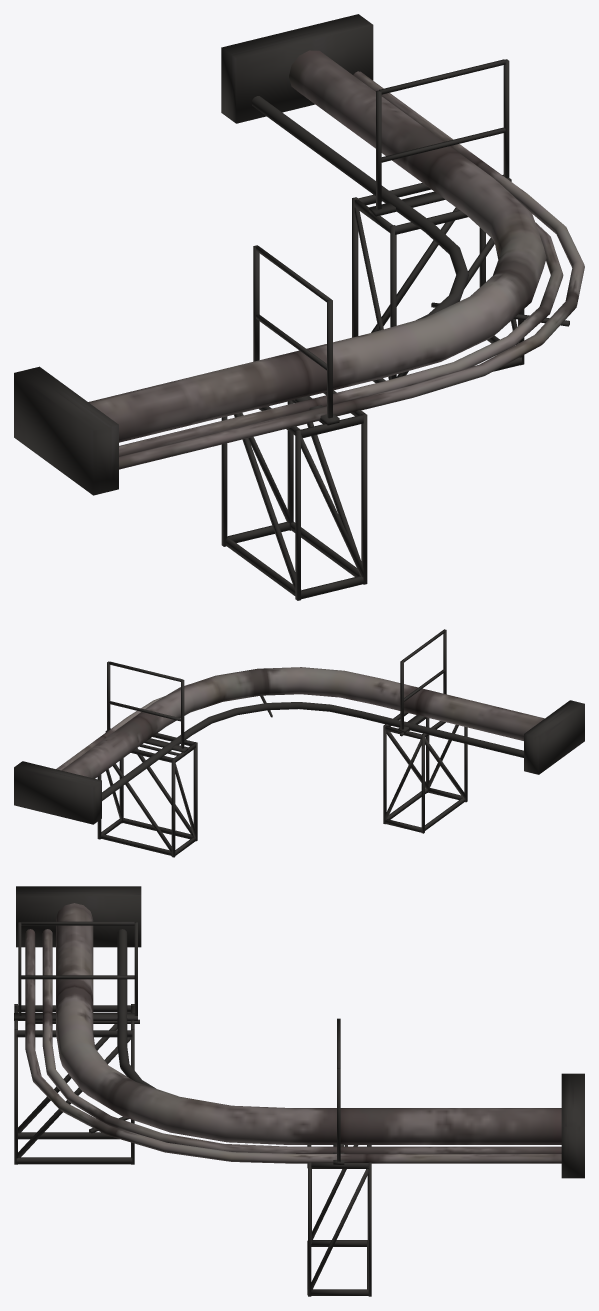
The model's file is Pipe_5.glb.
3 views of the same model, one above another, from view 1: azimuth 30°, elevation 25°; view 2: azimuth 150°, elevation 25°; view 3: azimuth 270°, elevation 25° (orthographic). The views are drawn at different scales.
Visible parts, largest first — view 1: Pipe_5; view 2: Pipe_5; view 3: Pipe_5.
Part boxes in pixels (x1,y1,x2,y2): Pipe_5: (14,14,584,600); Pipe_5: (14,629,584,857); Pipe_5: (14,886,584,1296).
Bounding box in the file's own units: 9.58 × 4.25 × 9.59.
1 material, 1 textured.
